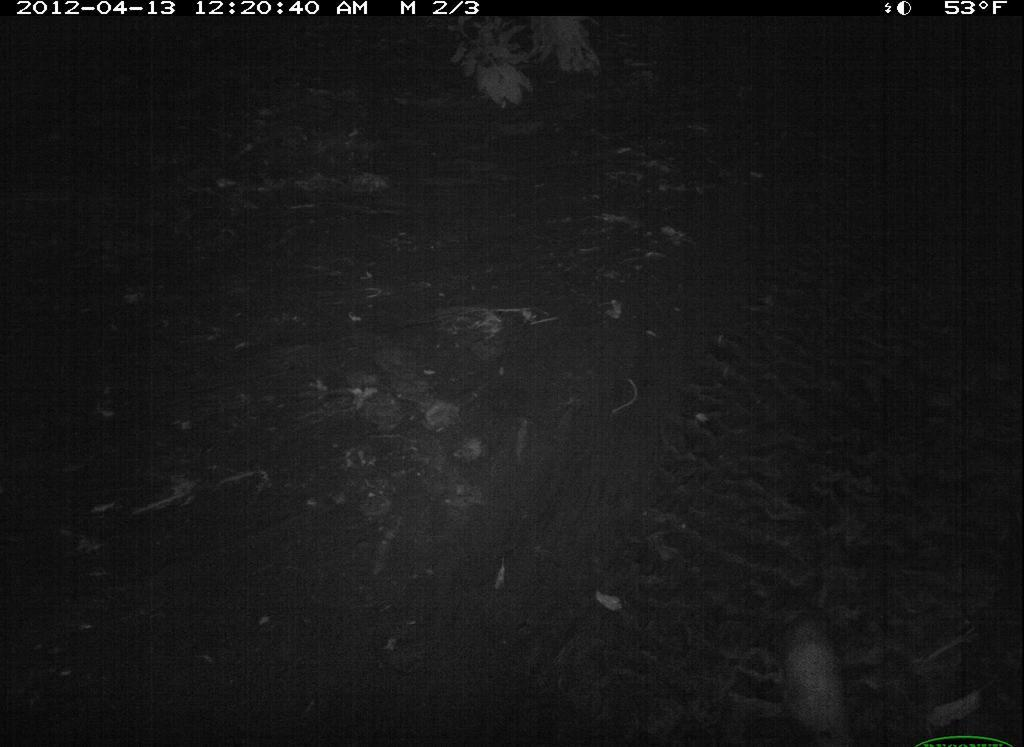opossum: (767, 587, 877, 747)
